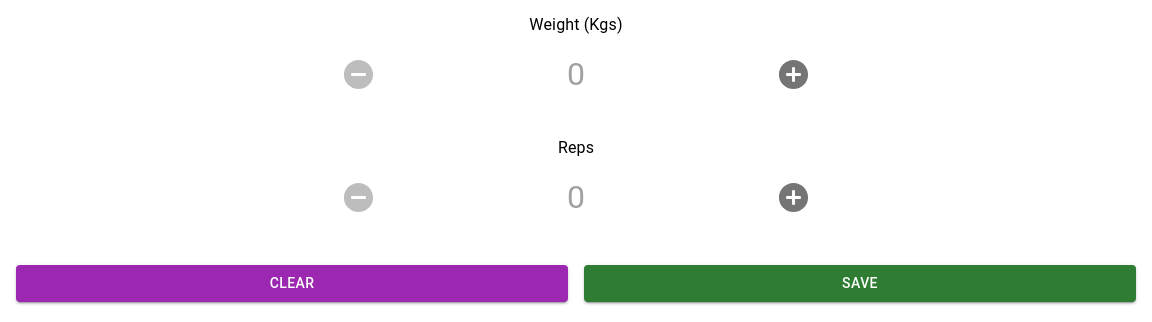
LogController › increment/decrement-buttons are disabled on LogInput's end values
set WeightInput to max value and expect increase weight button to be disabled
Type "9999" into the number field named "weight".
click(576, 74); type("9999")  # box [392,47,760,102]
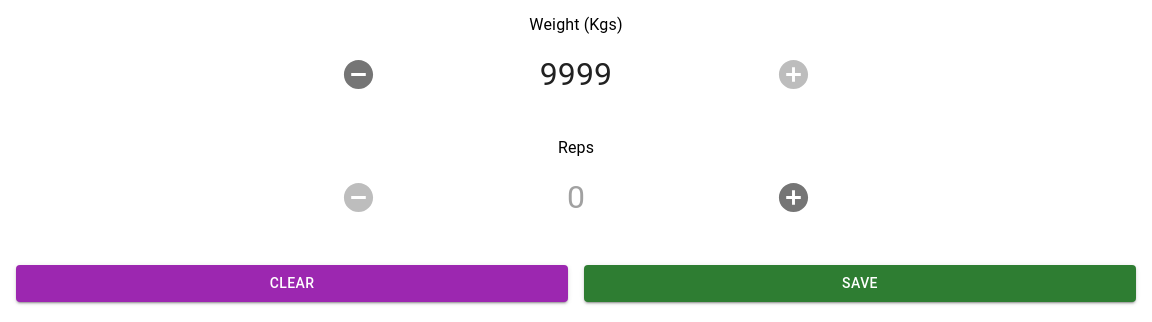
Expected: the button with test id "increase-weight" is disabled, [768,47,819,102]
Expected: the button with test id "decrease-weight" is enabled, [333,47,384,102]
clear WeightInput and expect decrease weight button to be disabled
Clear the number field named "weight" at [576, 74], box [392,47,760,102]
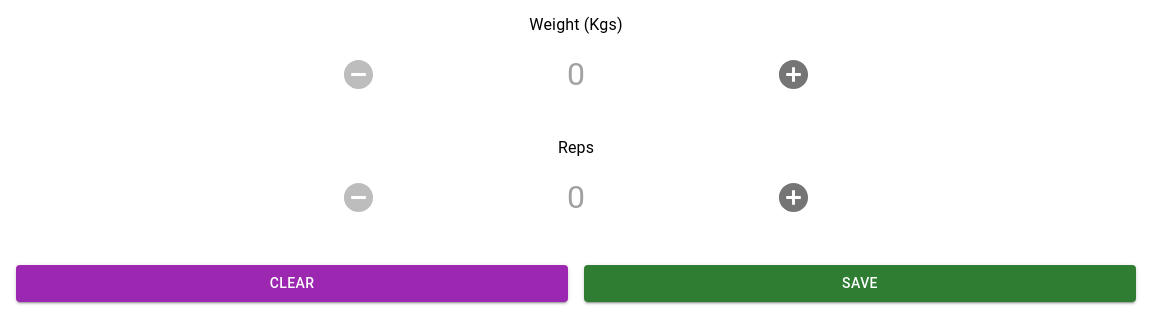
Expected: the button with test id "increase-weight" is enabled, [768,47,819,102]
Expected: the button with test id "decrease-weight" is disabled, [333,47,384,102]
set RepsInput to max value and expect increase reps button to be disabled
Type "99" into the number field named "reps".
click(576, 198); type("99")  # box [392,170,760,225]
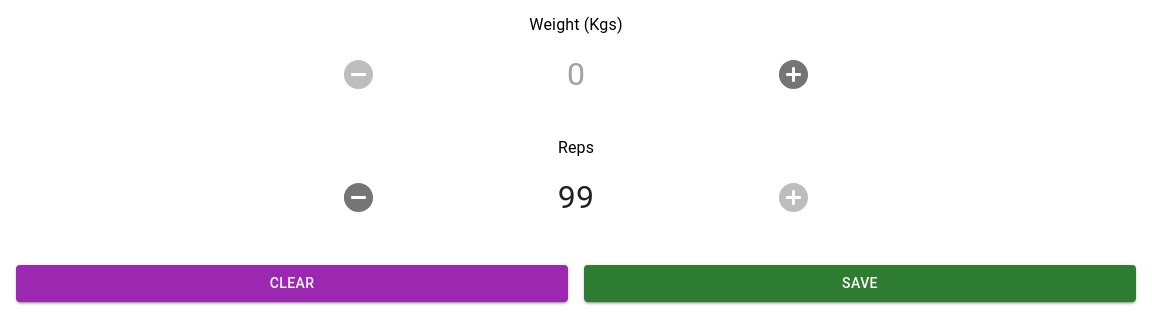
Expected: the button with test id "increase-reps" is disabled, [768,170,819,225]
Expected: the button with test id "decrease-reps" is enabled, [333,170,384,225]
clear RepsInput and expect decrease reps button to be disabled
Clear the number field named "reps" at [576, 198], box [392,170,760,225]
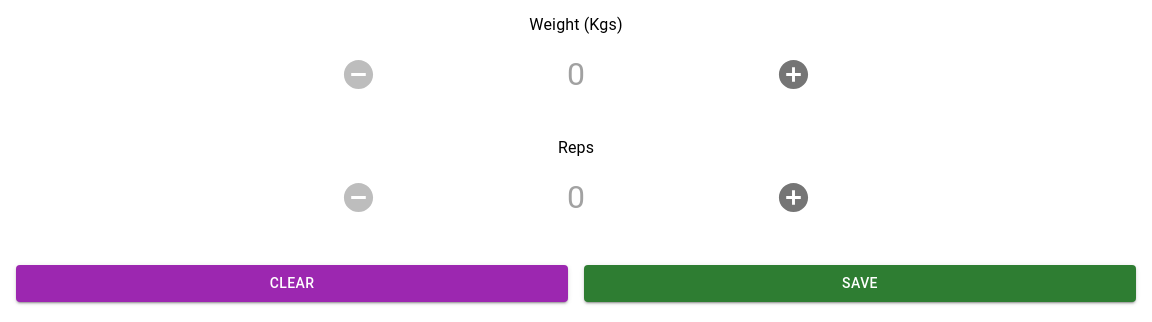
Expected: the button with test id "increase-reps" is enabled, [768,170,819,225]
Expected: the button with test id "decrease-reps" is disabled, [333,170,384,225]
